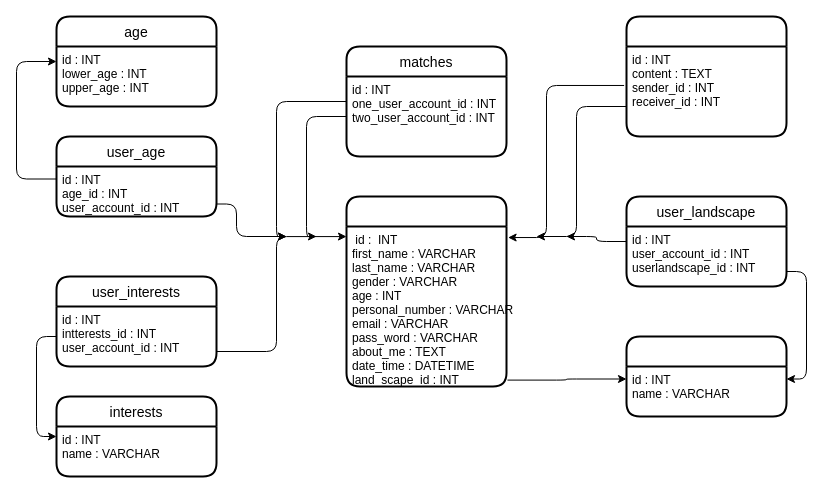
Some shapes in this 823 by 493 pixel diagram are drawn without their labels. The box of each missing label's shape, as (x1, y1, x2, y2) in pixels:
landscape: (625, 335, 787, 417)
message: (625, 15, 787, 137)
user_account: (345, 195, 507, 387)
